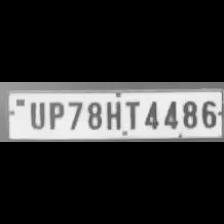4: (142, 98, 160, 130), (160, 97, 178, 128)
6: (199, 97, 219, 128)
7: (64, 99, 82, 131)
8: (84, 98, 104, 130), (180, 97, 198, 128)
H: (103, 98, 123, 130)
P: (44, 98, 64, 130)
T: (122, 98, 140, 130)
U: (24, 98, 46, 130)
